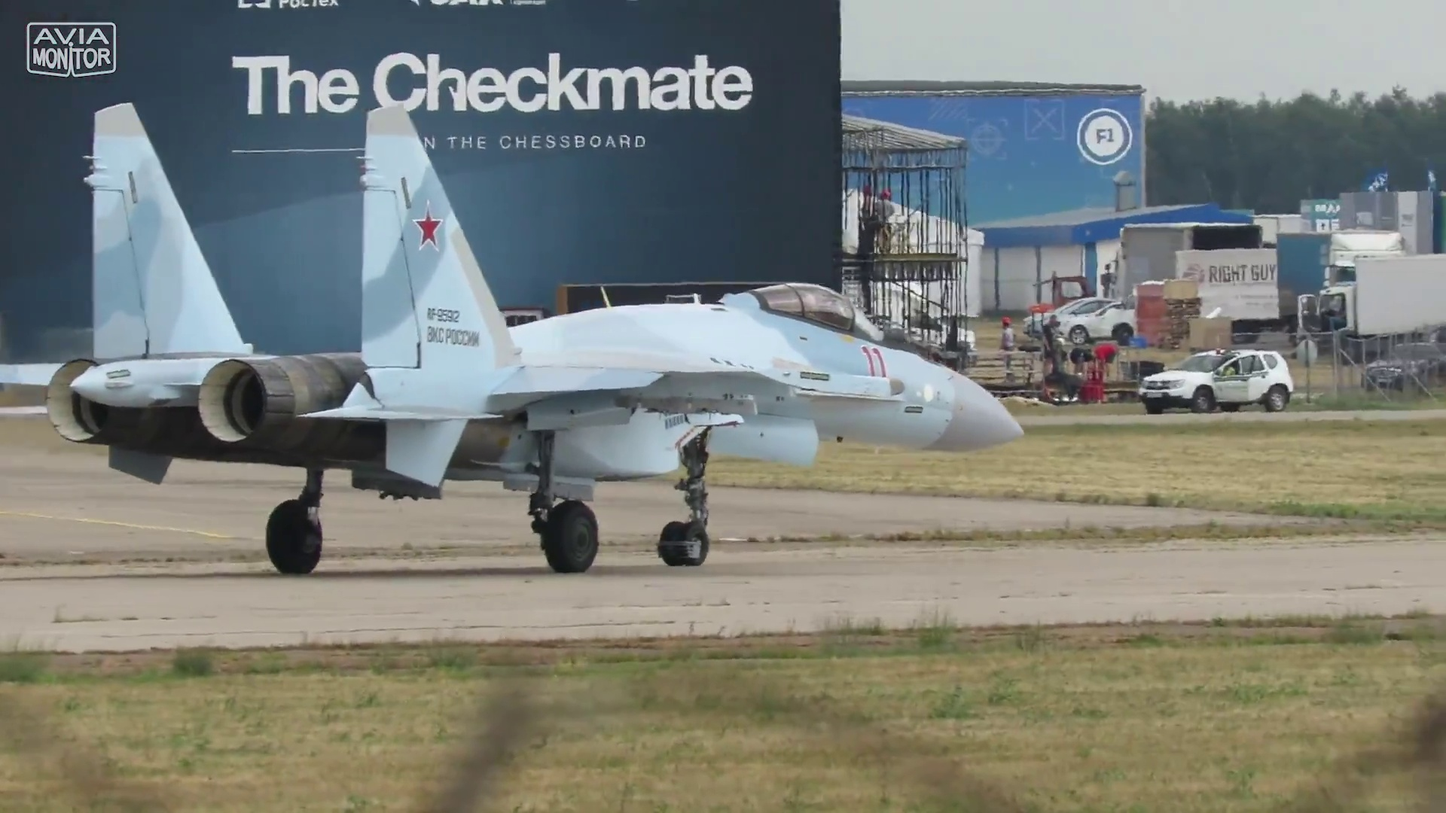Su35: (41, 96, 1034, 575)
